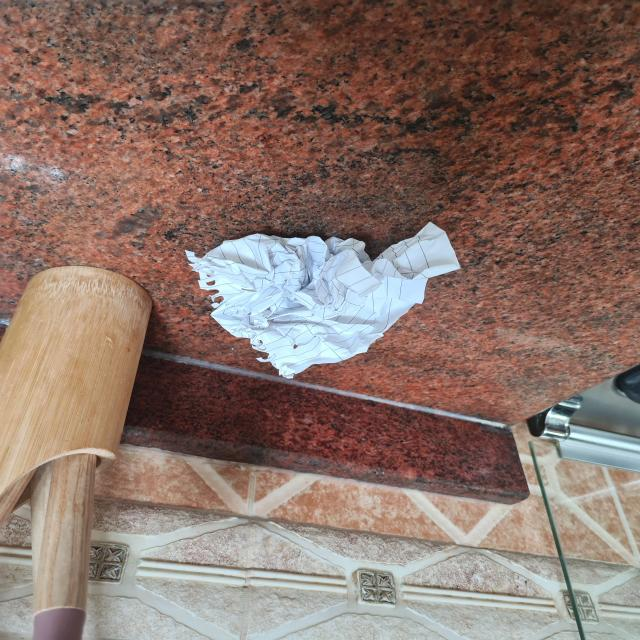Paper: (178, 208, 470, 390)
